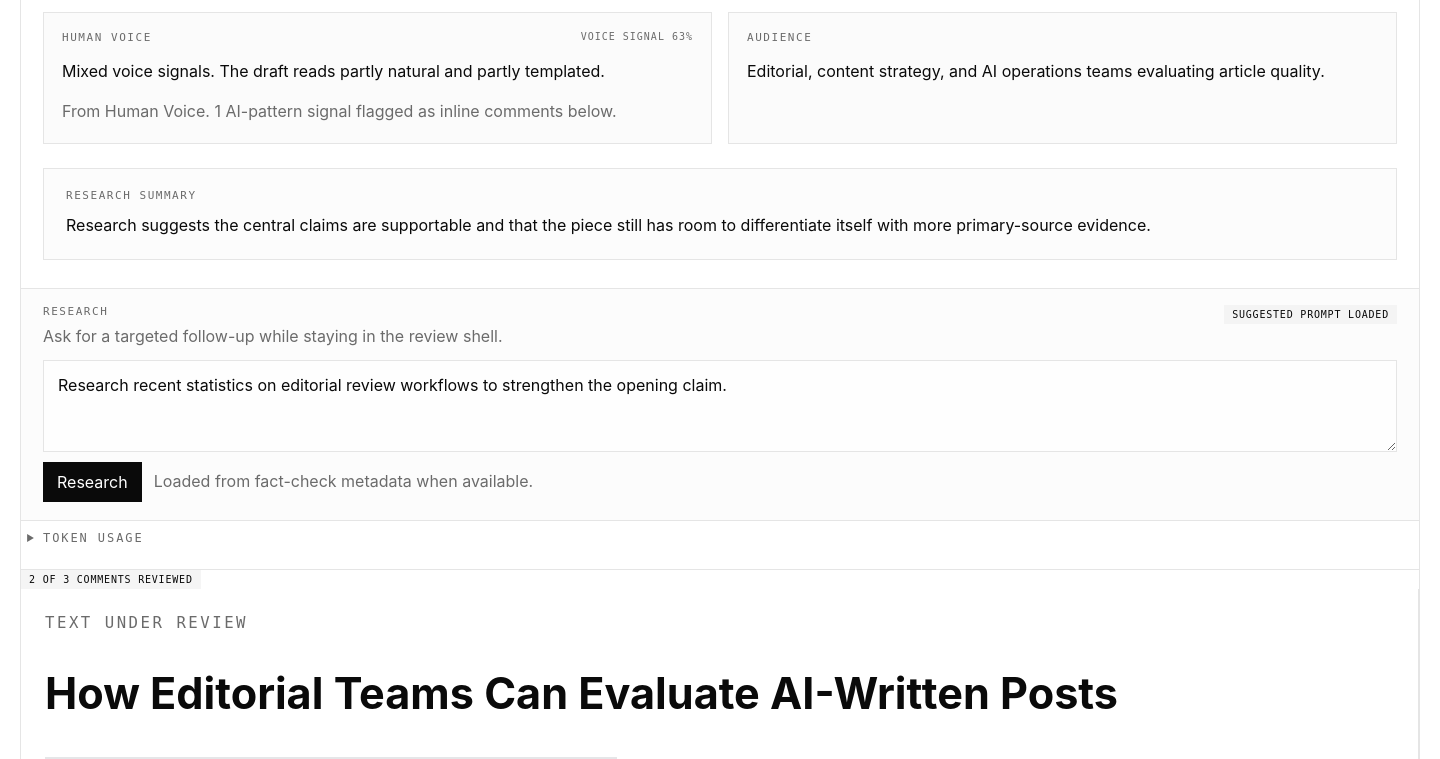
Test case: ReviewWorkbench › shows a local error in the research panel when targeted research fails
(page scrolled)
Replace the text in the text box named "Research prompt" with "What is the source?" at (720, 406), box [43,360,1397,452]
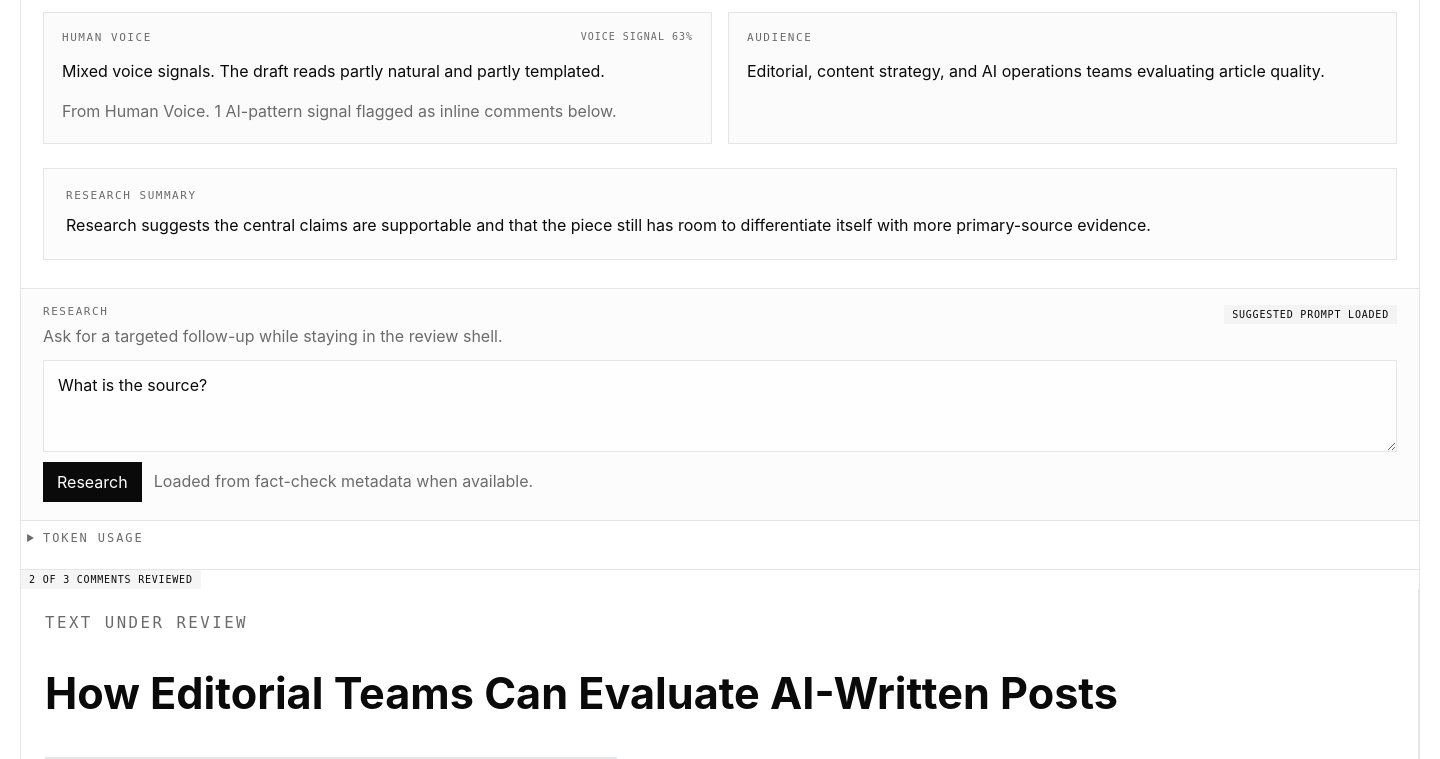
Click the button with test id "research-submit-button" at (92, 482), box [43,462,142,502]
(page scrolled)
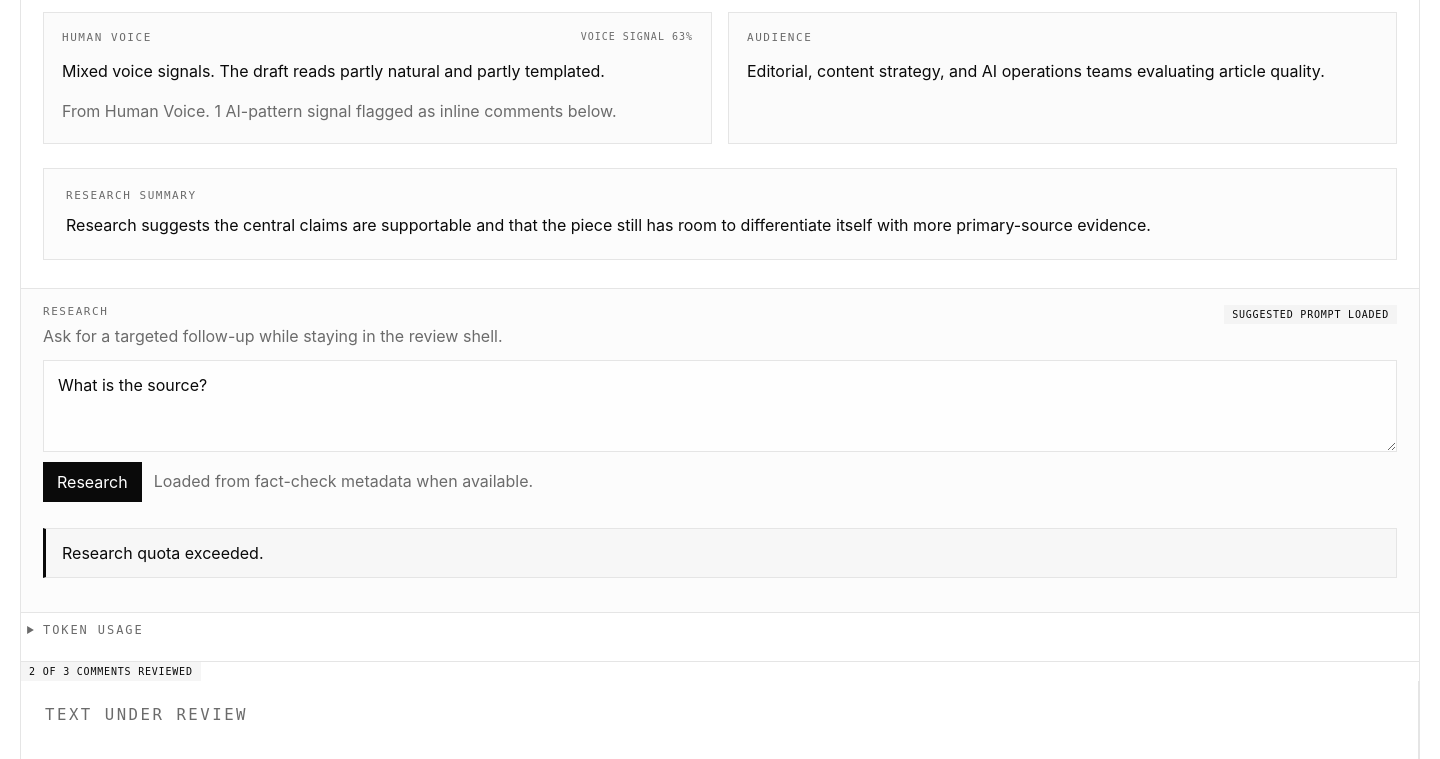
Now the message with test id "research-local-error" reads "Research quota exceeded.", box [62,543,264,563]
